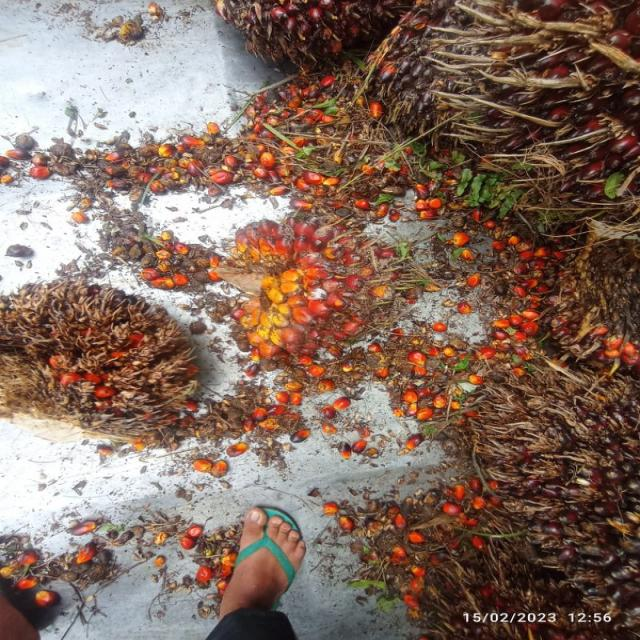fraksi 3: (198, 192, 433, 385)
fraksi 4: (0, 233, 212, 476)
